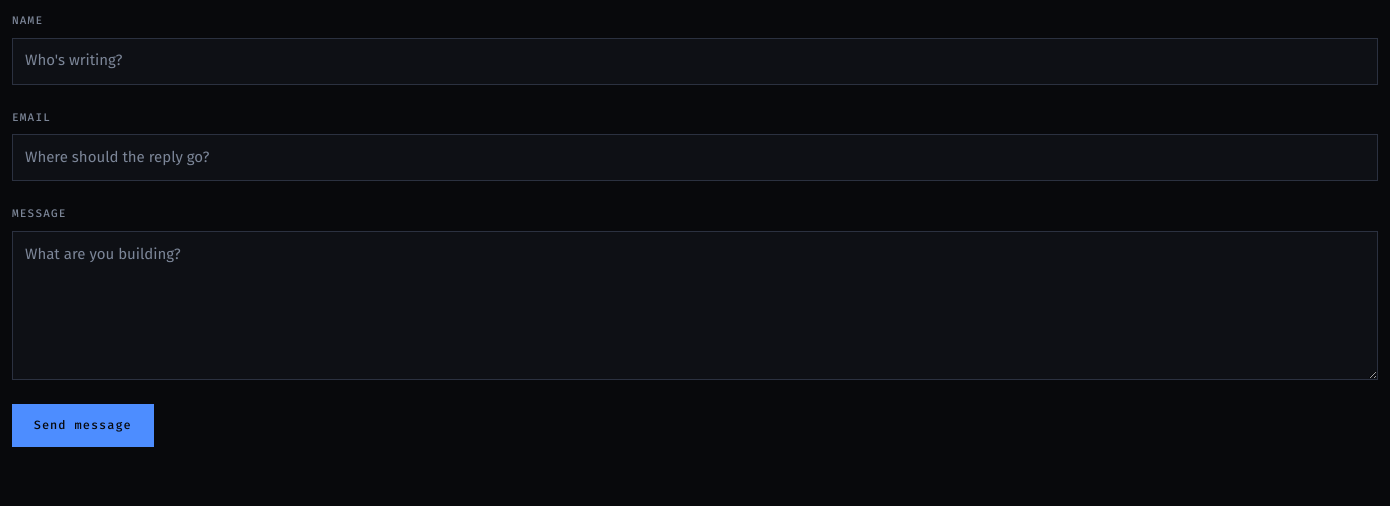
ContactForm › should submit the form and show a thank you message
The width and height of the screenshot is (1390, 506).
Type "Alice" into the field with test id "name".
click(695, 61); type("Alice")  # box 12,38 -> 1378,85
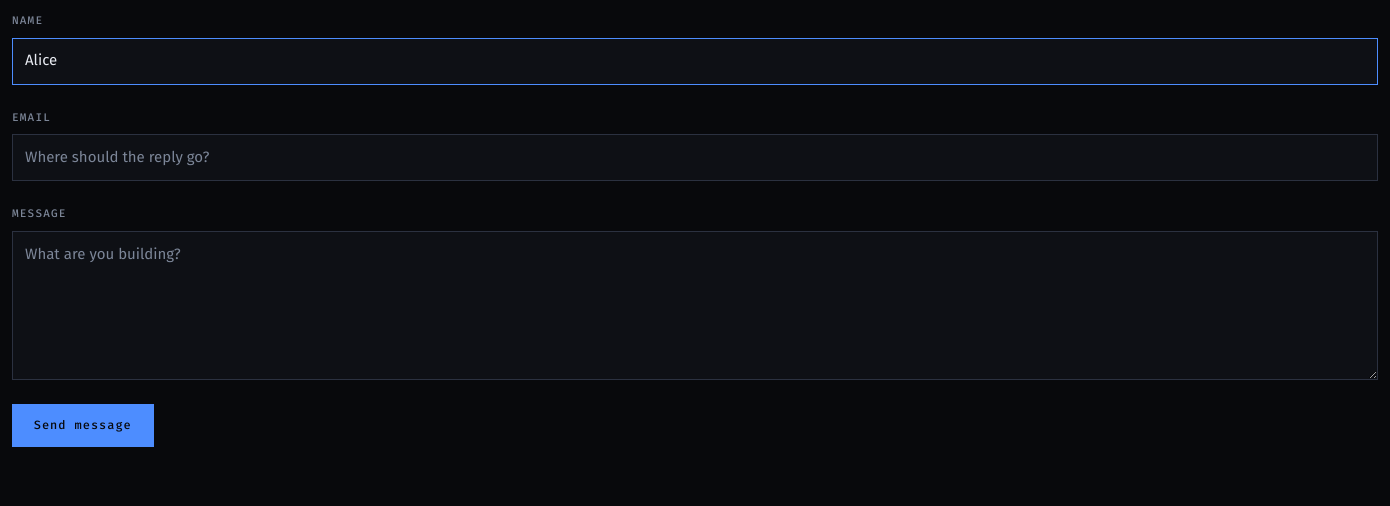
Type "alice@example.com" into the field with test id "email".
click(695, 158); type("alice@example.com")  # box 12,134 -> 1378,181
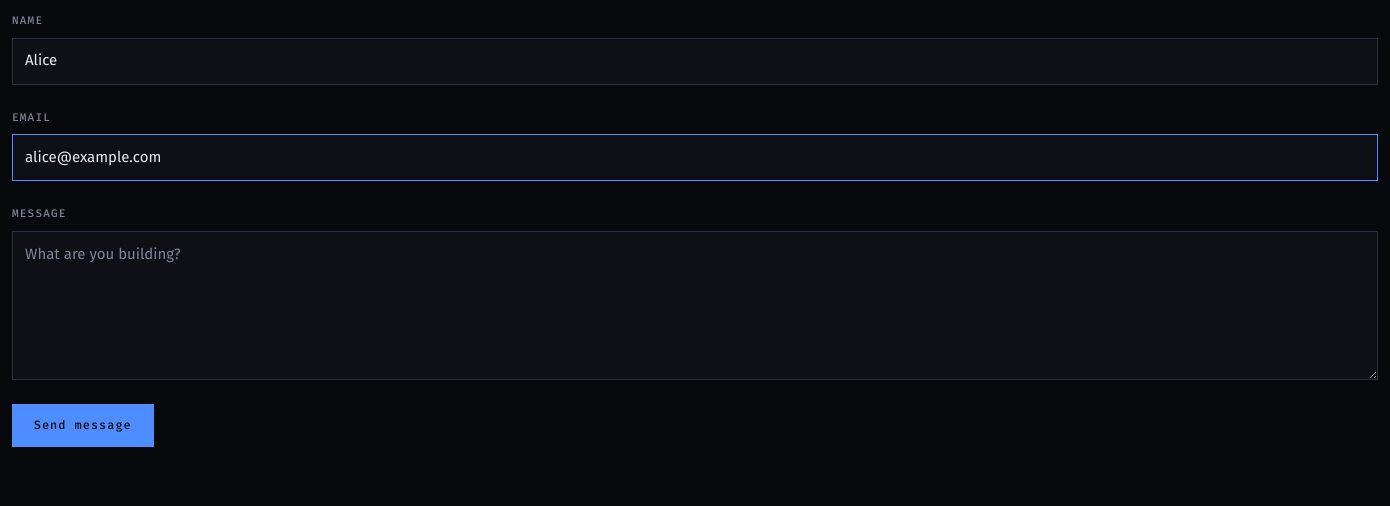
Type "Hello, this is a test." into the text box with test id "message".
click(695, 305); type("Hello, this is a test.")  # box 12,231 -> 1378,380
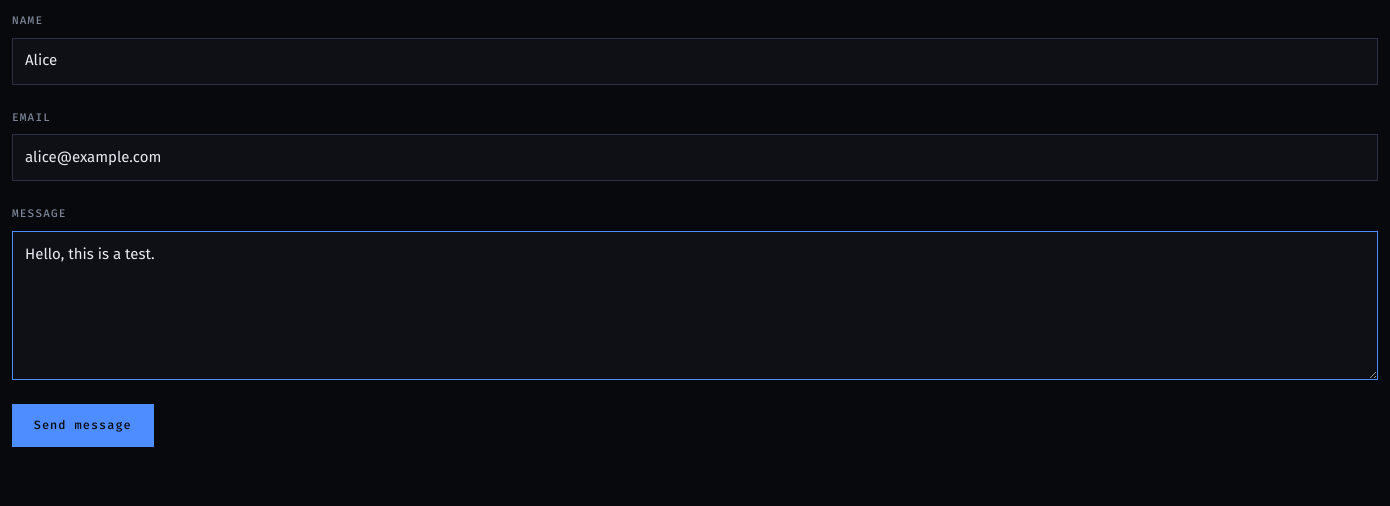
Click the button "Send message".
click(83, 425)  # box 12,404 -> 154,447
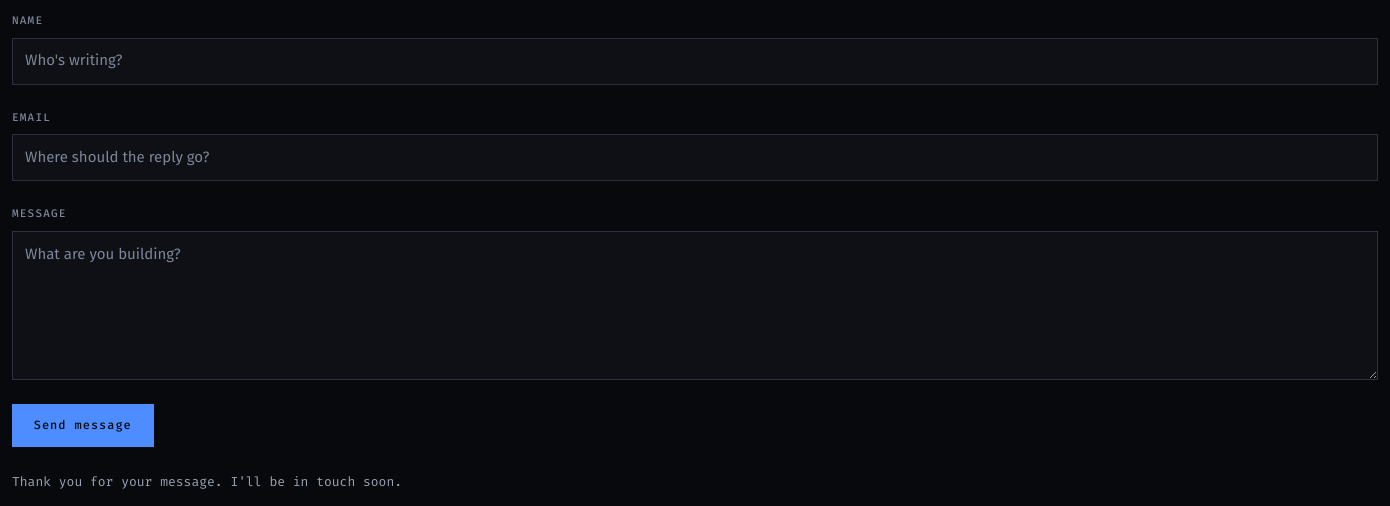
expect the text "Thank you for your message. I'll be in touch soon." is shown: met, box 12,474 -> 402,489
